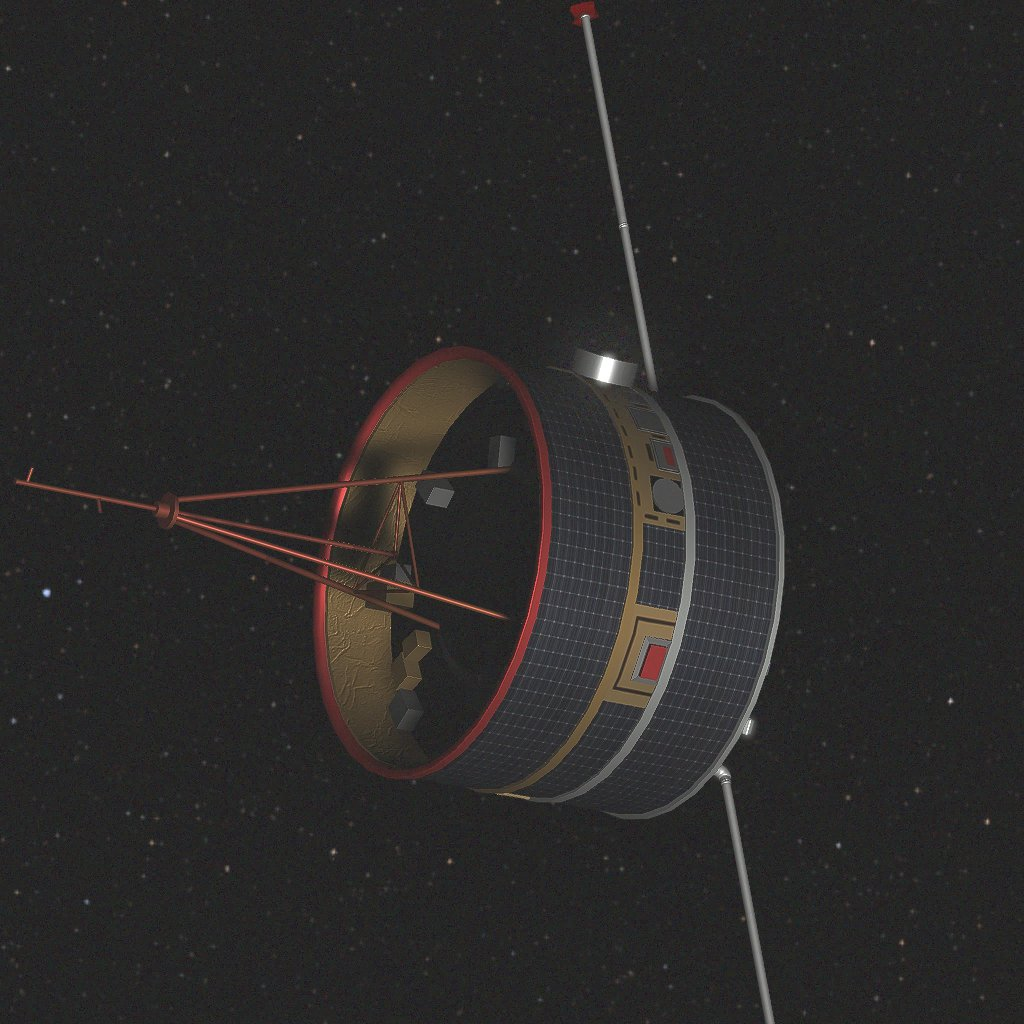double_star: (14, 0, 784, 1024)
